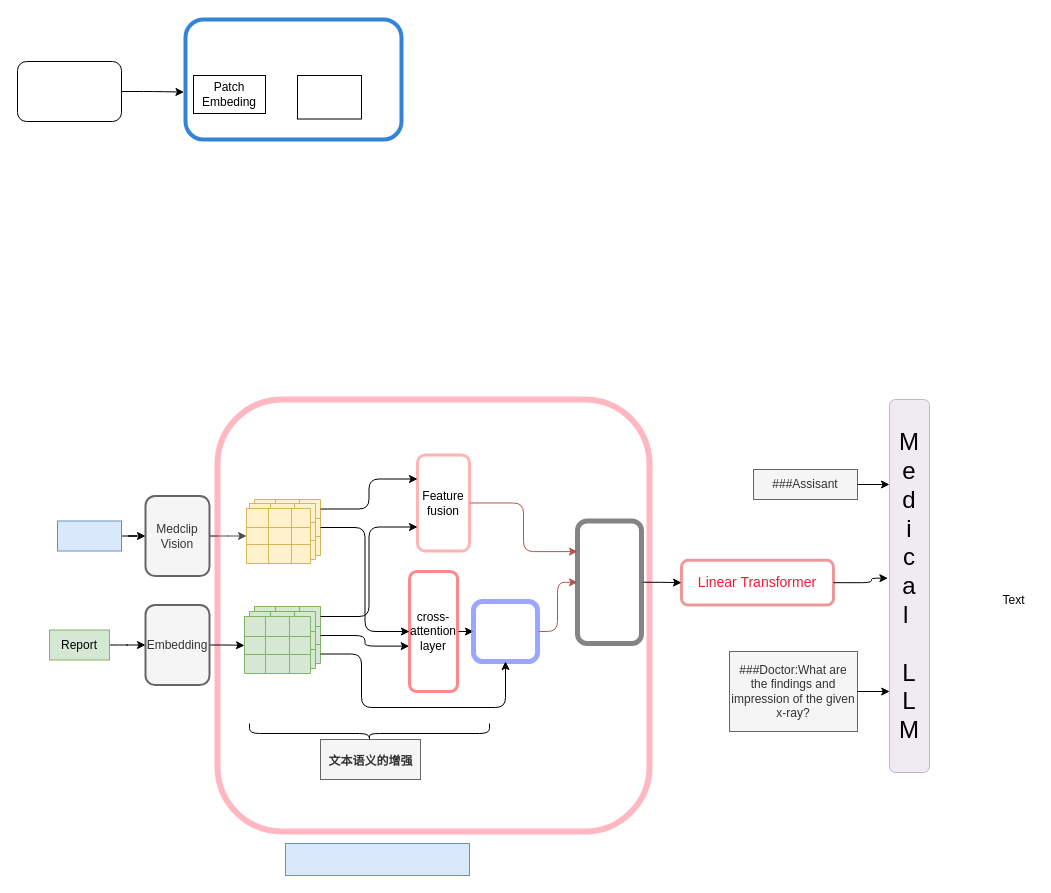
Some shapes in this 1051 by 893 pixel diagram are drawn without their labels. The shapes that lost their labels are listed below. From the top down, each one's centre as x and y in pixels, then its label:
the point at 69,91: 医学影像输入 [ 3 , 224,224 ]
the point at 89,535: Xray image
the point at 609,582: Fusion weidu output
the point at 505,631: resnet output
the point at 377,859: Q-Former跨模态
